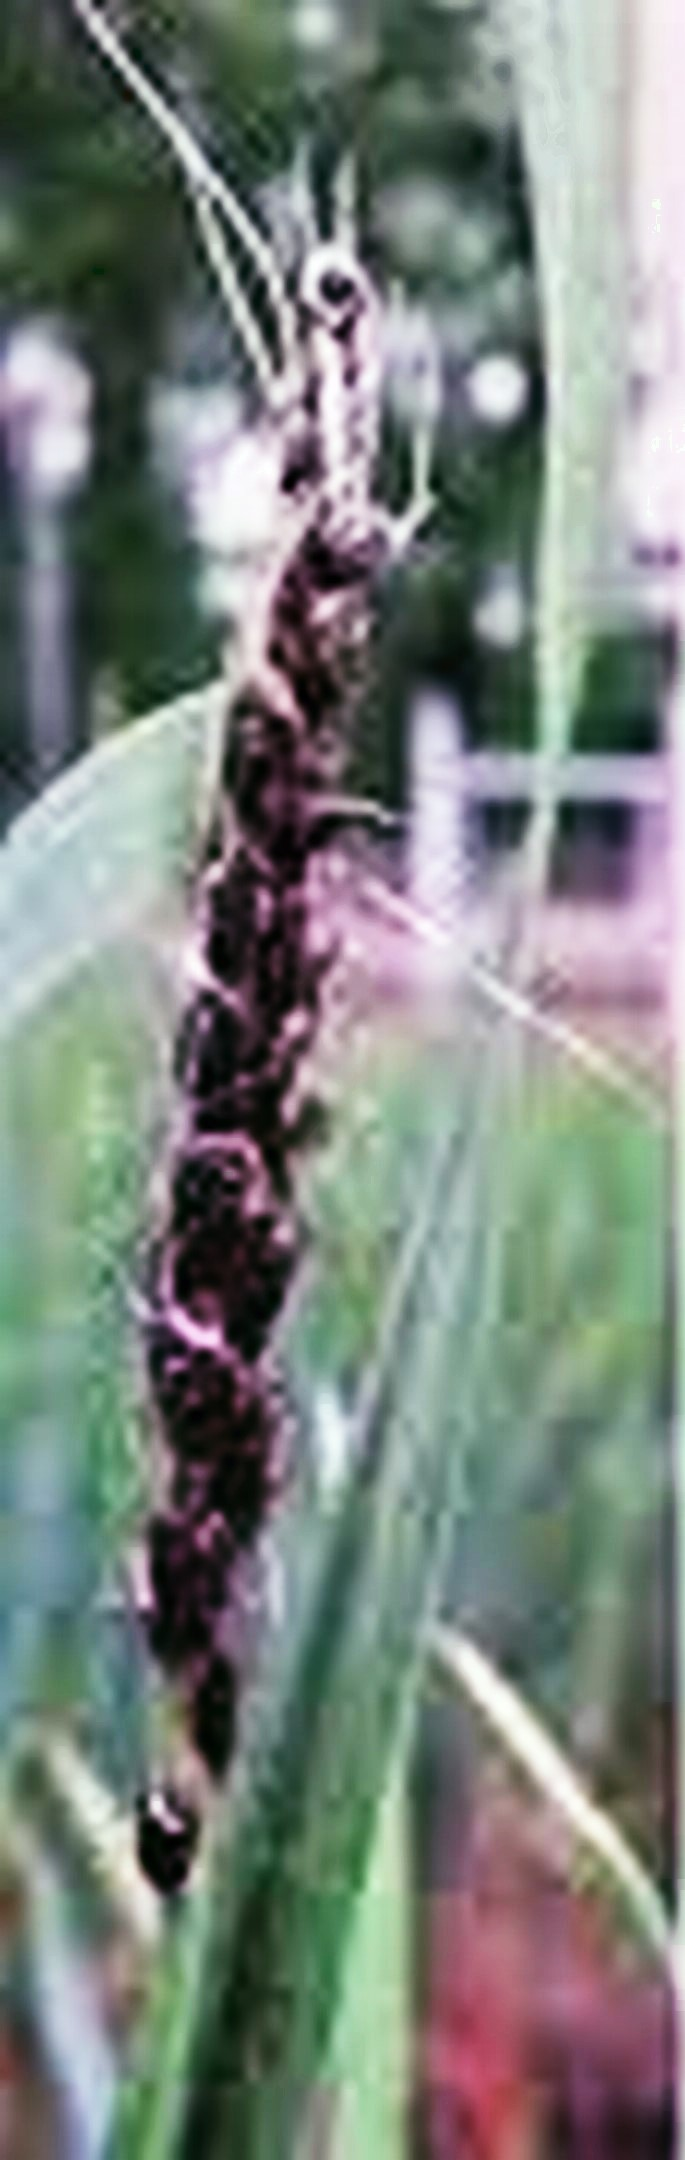Wheat Loose Smut: (106, 499, 429, 1653)
